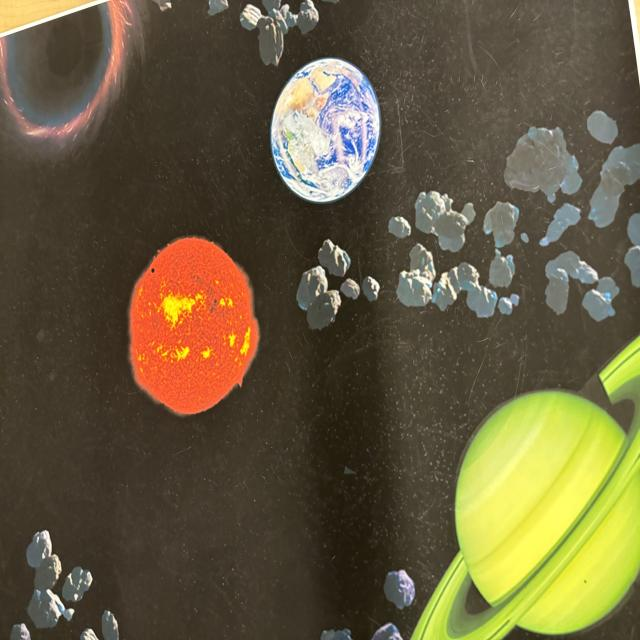Asteroids: (296, 112, 640, 323), (10, 524, 124, 640), (212, 0, 323, 63), (322, 569, 414, 640)
Black Hole: (0, 0, 128, 147)
Earth: (271, 54, 383, 202)
Saturn: (411, 333, 640, 639)
Sun: (126, 232, 256, 415)
